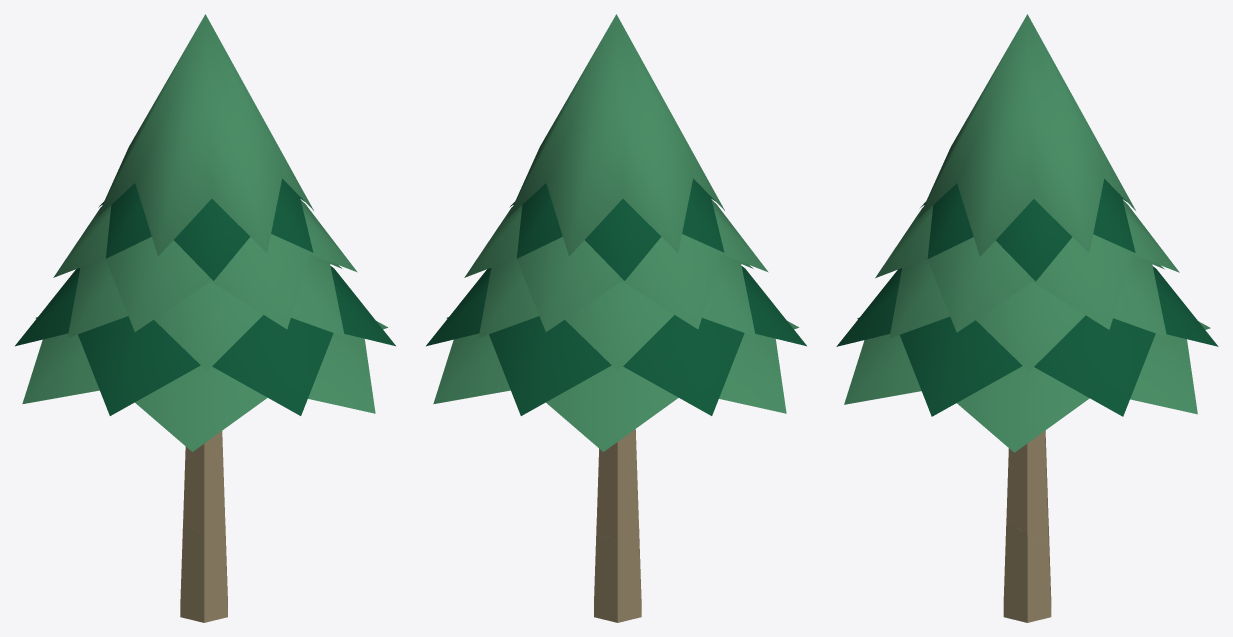
File: Tree.fbx
3 renders of one model, left to right at view 1: azimuth 30°, elevation 25°; view 2: azimuth 150°, elevation 25°; view 3: azimuth 270°, elevation 25°, orthographic.
Parts seen in each view (by area): view 1: polySurface8, polySurface7; view 2: polySurface8, polySurface7; view 3: polySurface8, polySurface7.
Part boxes in pixels (x1=…): polySurface8: x1=15, y1=14, x2=395, y2=534; polySurface7: x1=180, y1=519, x2=227, y2=622; polySurface8: x1=426, y1=14, x2=806, y2=538; polySurface7: x1=594, y1=519, x2=641, y2=622; polySurface8: x1=836, y1=14, x2=1218, y2=538; polySurface7: x1=1003, y1=520, x2=1051, y2=622.
Size of the model in its own units: 14.77 by 23.84 by 13.83.
